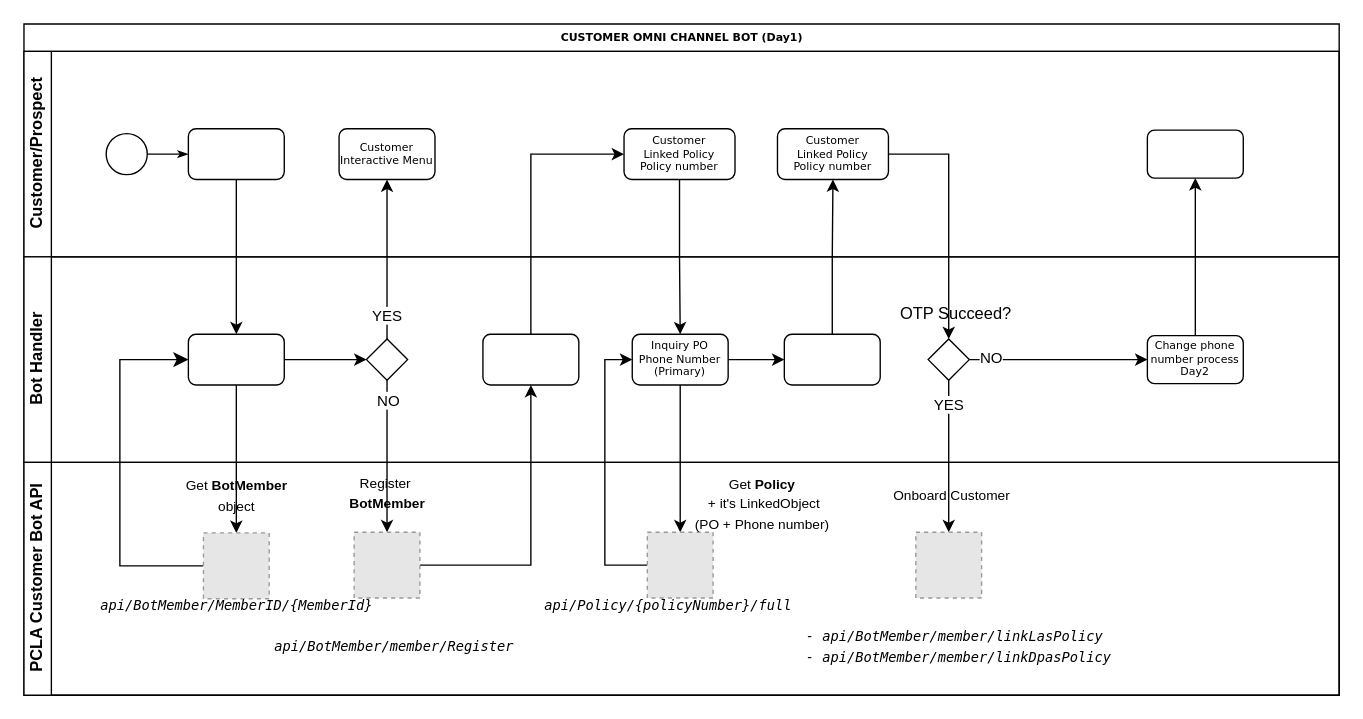
Image size: 1363x719. Some labels were removed from this diagram. Grey dashed boxes stand in for pictures. Here are the shapes that lost their labels. From the top down, the centre of each, then its label:
(235,153): Start
(1194,153): Change phone number process
(235,359): Check Customer IsOnboarded
(530,359): Send registered Message
(831,359): OTP
